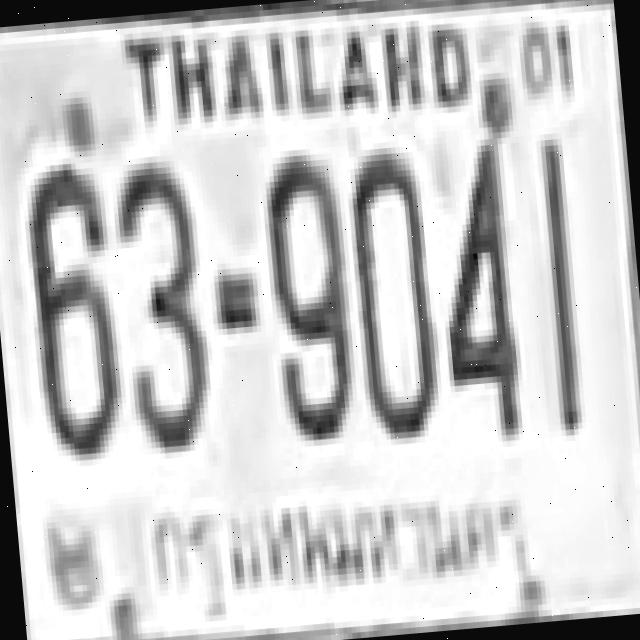0: (344, 146, 436, 435)
3: (109, 153, 211, 450)
4: (426, 130, 525, 436)
6: (20, 158, 121, 454)
9: (258, 146, 356, 436)
Bangkok: (131, 449, 538, 638)
